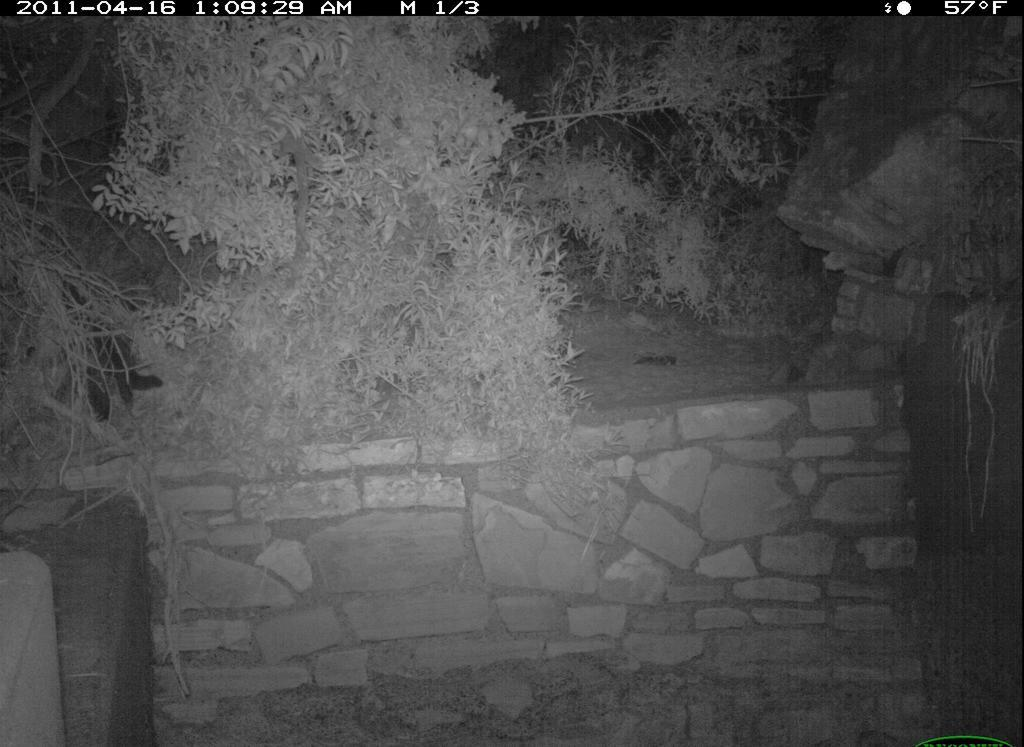cat: (27, 258, 180, 441)
